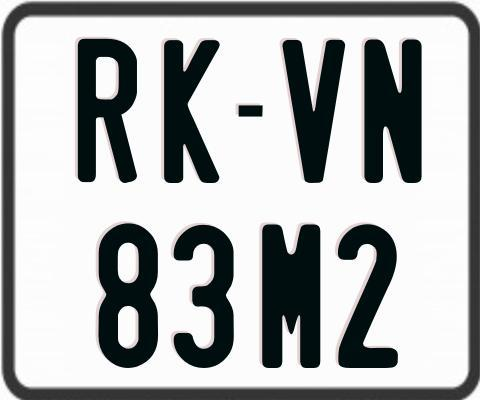2: (338, 222, 404, 371)
3: (171, 225, 235, 369)
8: (96, 220, 160, 368)
K: (163, 39, 222, 184)
M: (259, 223, 319, 373)
N: (363, 38, 424, 183)
R: (75, 38, 137, 183)
V: (282, 40, 350, 186)
